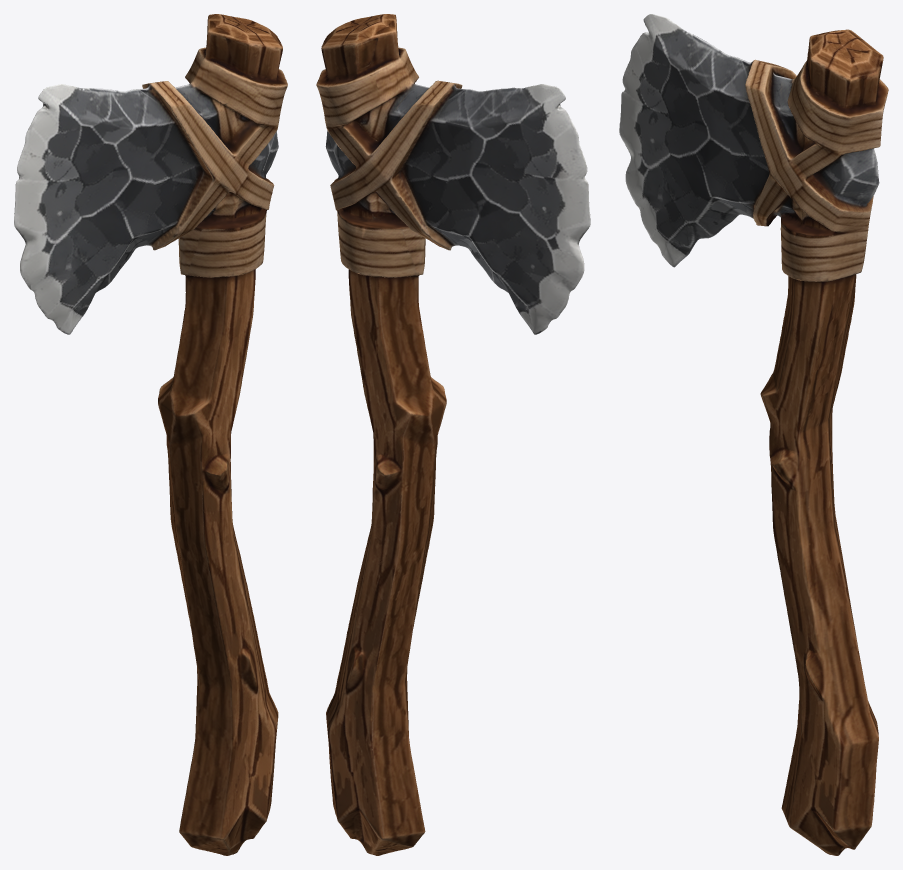
Rendered from meshy-original.glb.
3 views of the same model, side by side, from view 1: azimuth 30°, elevation 25°; view 2: azimuth 150°, elevation 25°; view 3: azimuth 330°, elevation 25° (orthographic).
Size of the model in its own units: 0.6378 by 1.9 by 0.2187.
1 material, 1 textured.
